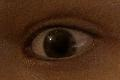eye: (43, 30, 76, 59)
